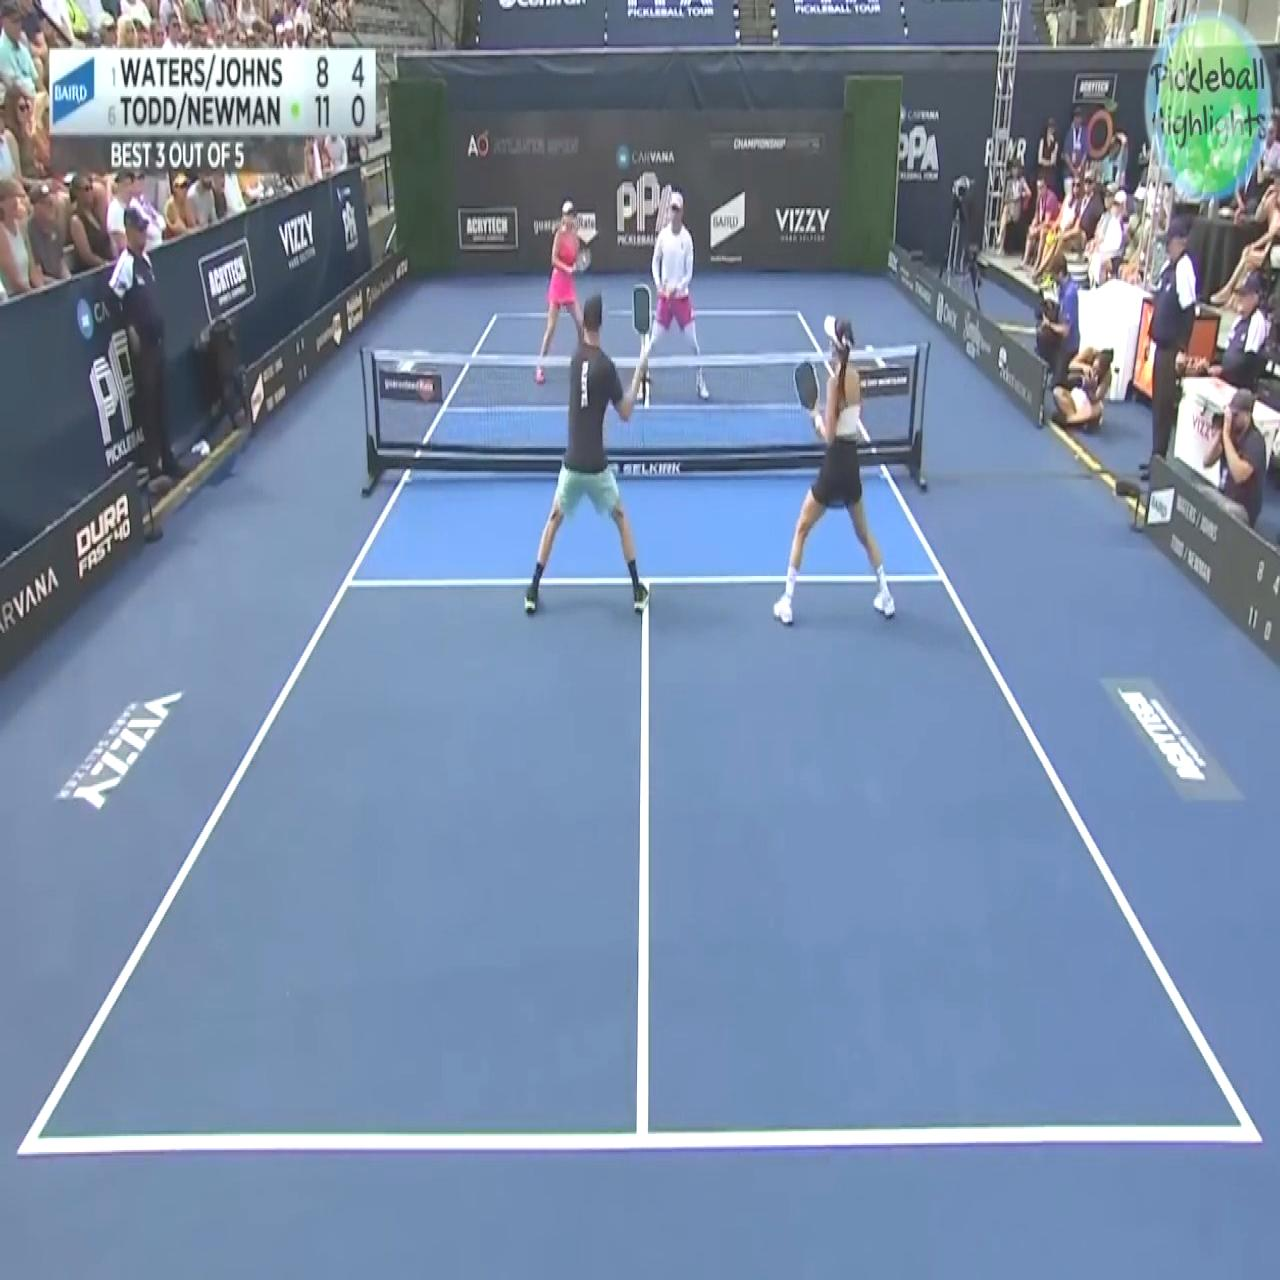Pickleball: (577, 252, 590, 272)
